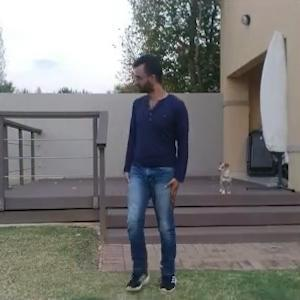follow: (101, 40, 191, 266)
